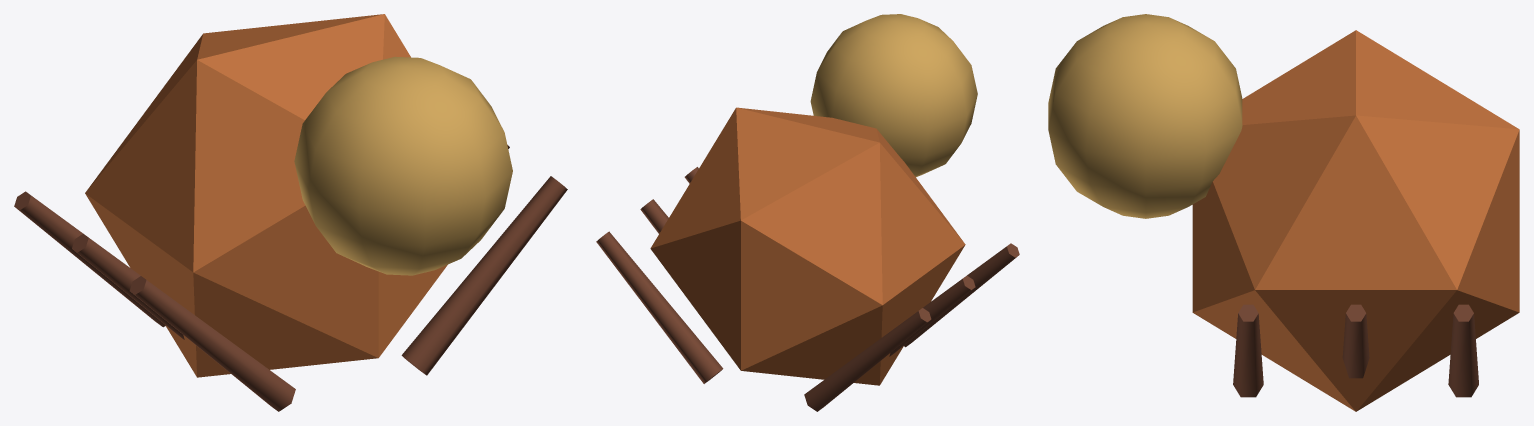
File: sand_scarab.glb
3 renders of one model, left to right at view 1: azimuth 30°, elevation 25°; view 2: azimuth 150°, elevation 25°; view 3: azimuth 270°, elevation 25°, orthographic. The views are drawn at different scales.
Parts seen in each view (by area): view 1: body_core, head_core, leg_5, leg_4, leg_0, leg_2; view 2: body_core, head_core, leg_1, leg_0, leg_4, leg_2, leg_3; view 3: body_core, head_core, leg_5, leg_1, leg_3.
Part boxes in pixels (x1=…): body_core: x1=85, y1=14, x2=447, y2=377; head_core: x1=294, y1=56, x2=512, y2=275; leg_5: x1=401, y1=176, x2=567, y2=375; leg_4: x1=129, y1=276, x2=295, y2=411; leg_0: x1=14, y1=191, x2=165, y2=327; leg_2: x1=72, y1=233, x2=184, y2=339; body_core: x1=650, y1=107, x2=965, y2=385; head_core: x1=810, y1=14, x2=977, y2=176; leg_1: x1=596, y1=231, x2=723, y2=383; leg_0: x1=804, y1=308, x2=931, y2=411; leg_4: x1=904, y1=243, x2=1019, y2=347; leg_2: x1=889, y1=275, x2=975, y2=356; leg_3: x1=640, y1=199, x2=668, y2=233; body_core: x1=1192, y1=30, x2=1519, y2=411; head_core: x1=1048, y1=14, x2=1242, y2=218; leg_5: x1=1233, y1=304, x2=1263, y2=397; leg_1: x1=1448, y1=304, x2=1478, y2=397; leg_3: x1=1342, y1=304, x2=1369, y2=378.
Size of what is drawn, in the model's own units: 1.82 by 1.49 by 1.84.
